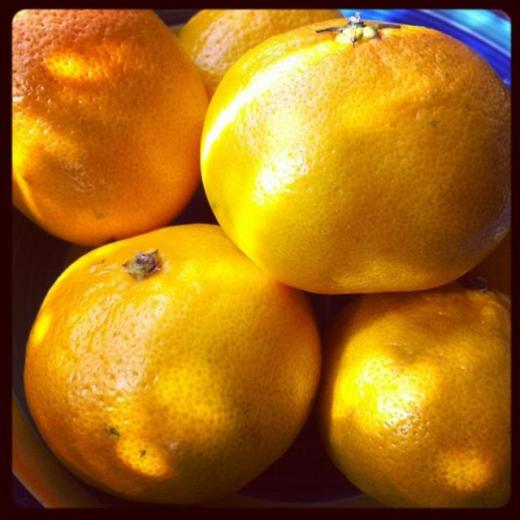Grape: (11, 10, 511, 507)
